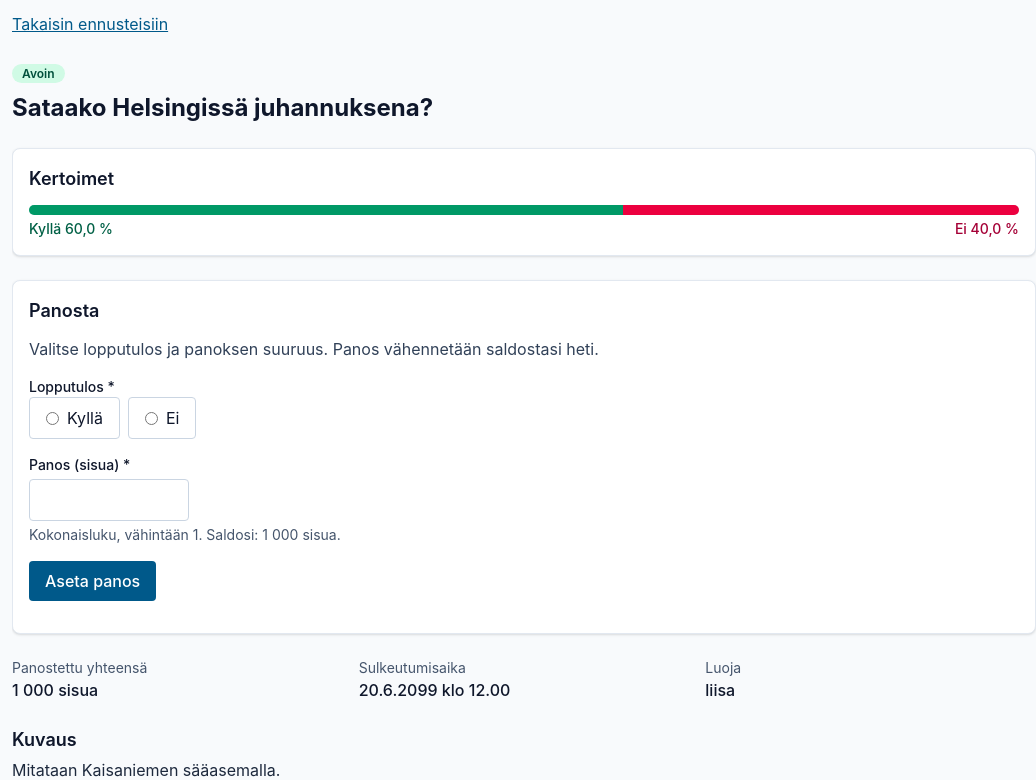
Test: WagerForm on the prediction detail page › shows server rejections next to the amount or in a banner
Click the radio button labelled "Kyllä": point(52, 418) [46,412,59,424]
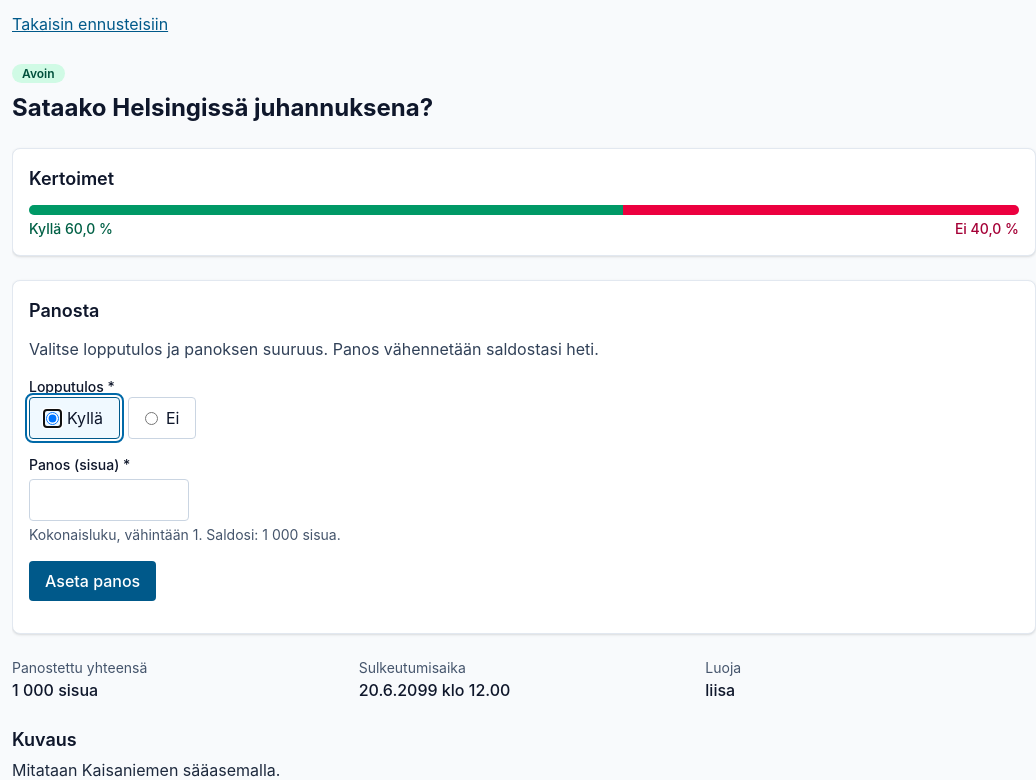
In the field labelled "Panos (sisua) *": point(109, 500) [29,479,189,521], type "900"
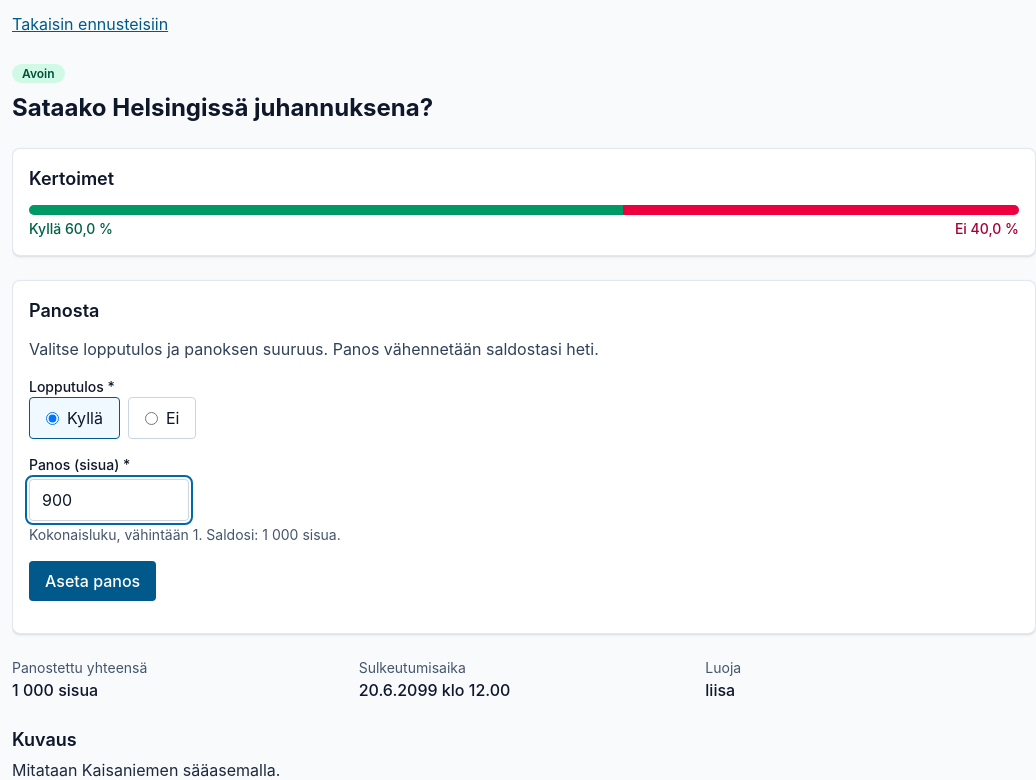
Click the button "Aseta panos": point(93, 581) [29,561,156,601]
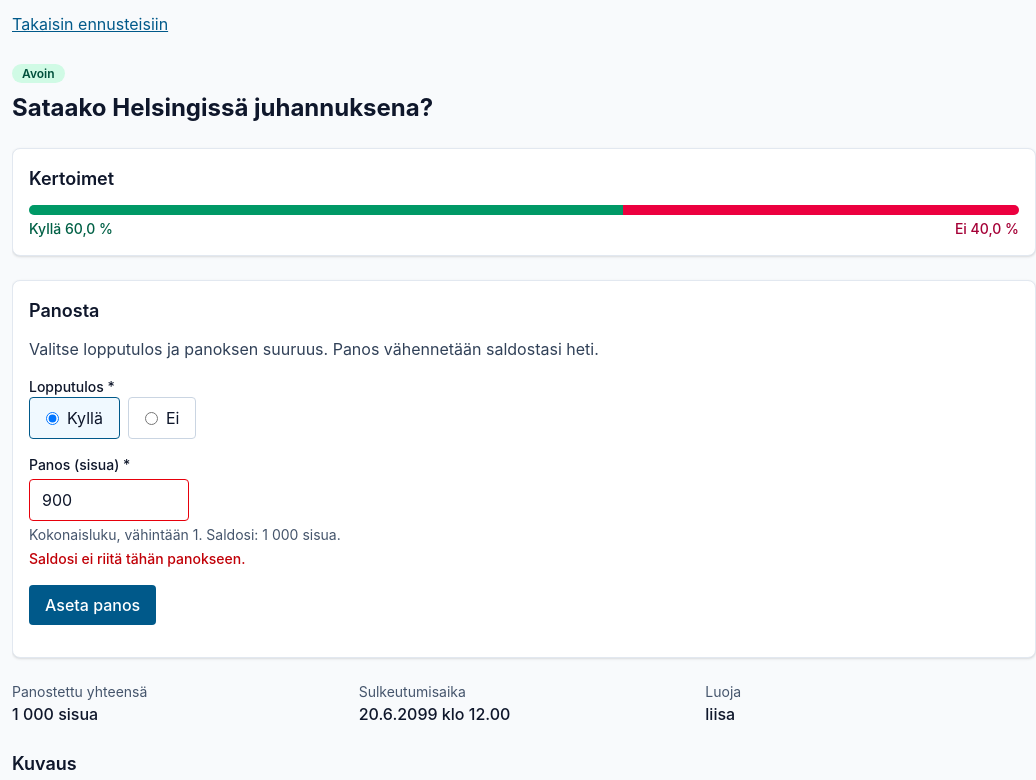
Expected: the text "Saldosi ei riitä tähän panokseen." is shown, [29,550,245,567]
Click the button "Aseta panos": point(93, 605) [29,585,156,625]
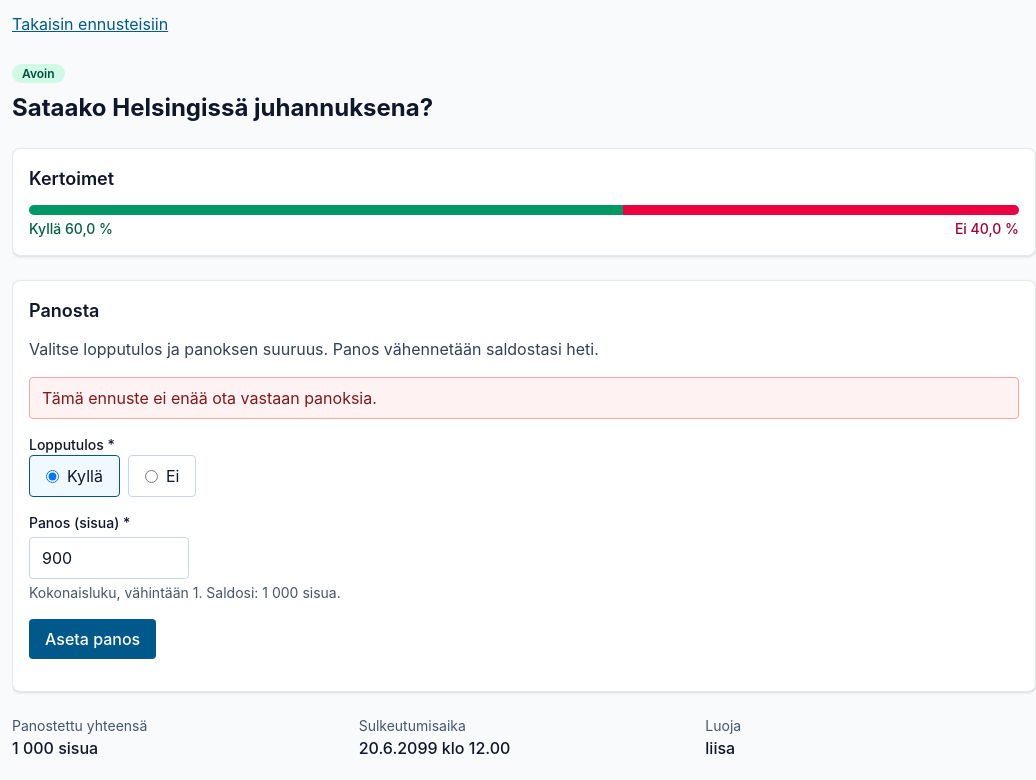
Expected: the message reads "Tämä ennuste ei enää ota vastaan panoksia.", [42,388,377,408]
